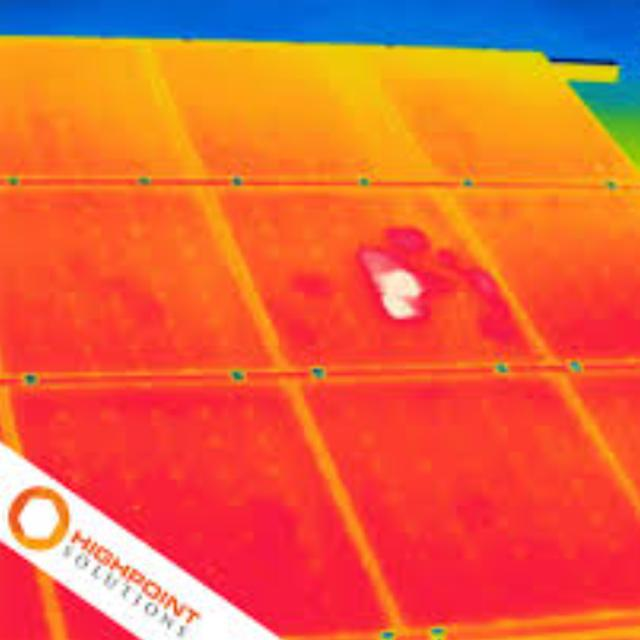hotspot group: (357, 249, 441, 331)
panel with hotspots: (206, 182, 571, 381)
